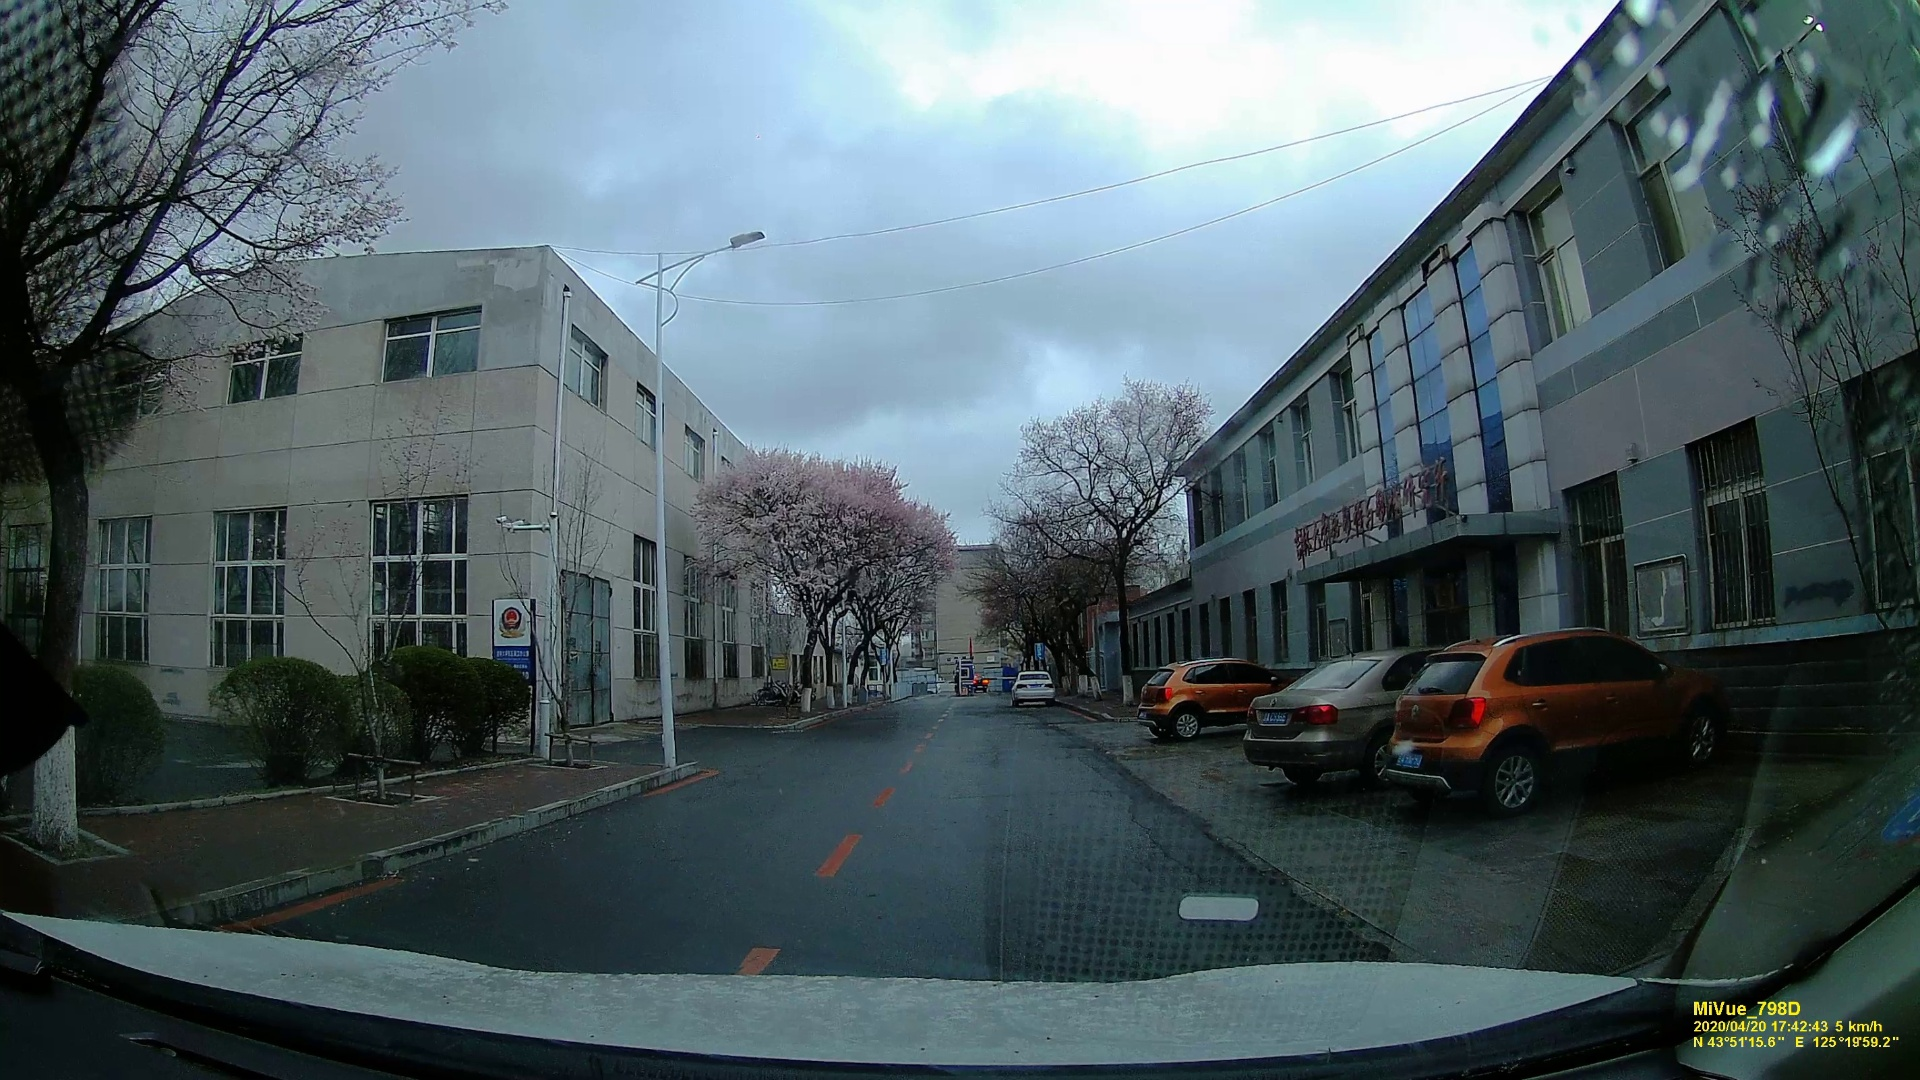traffic_sign: (492, 601, 535, 675)
vehicle: (1385, 622, 1722, 806), (1244, 644, 1378, 783), (1138, 655, 1291, 738), (1009, 669, 1058, 705), (975, 673, 988, 694)
